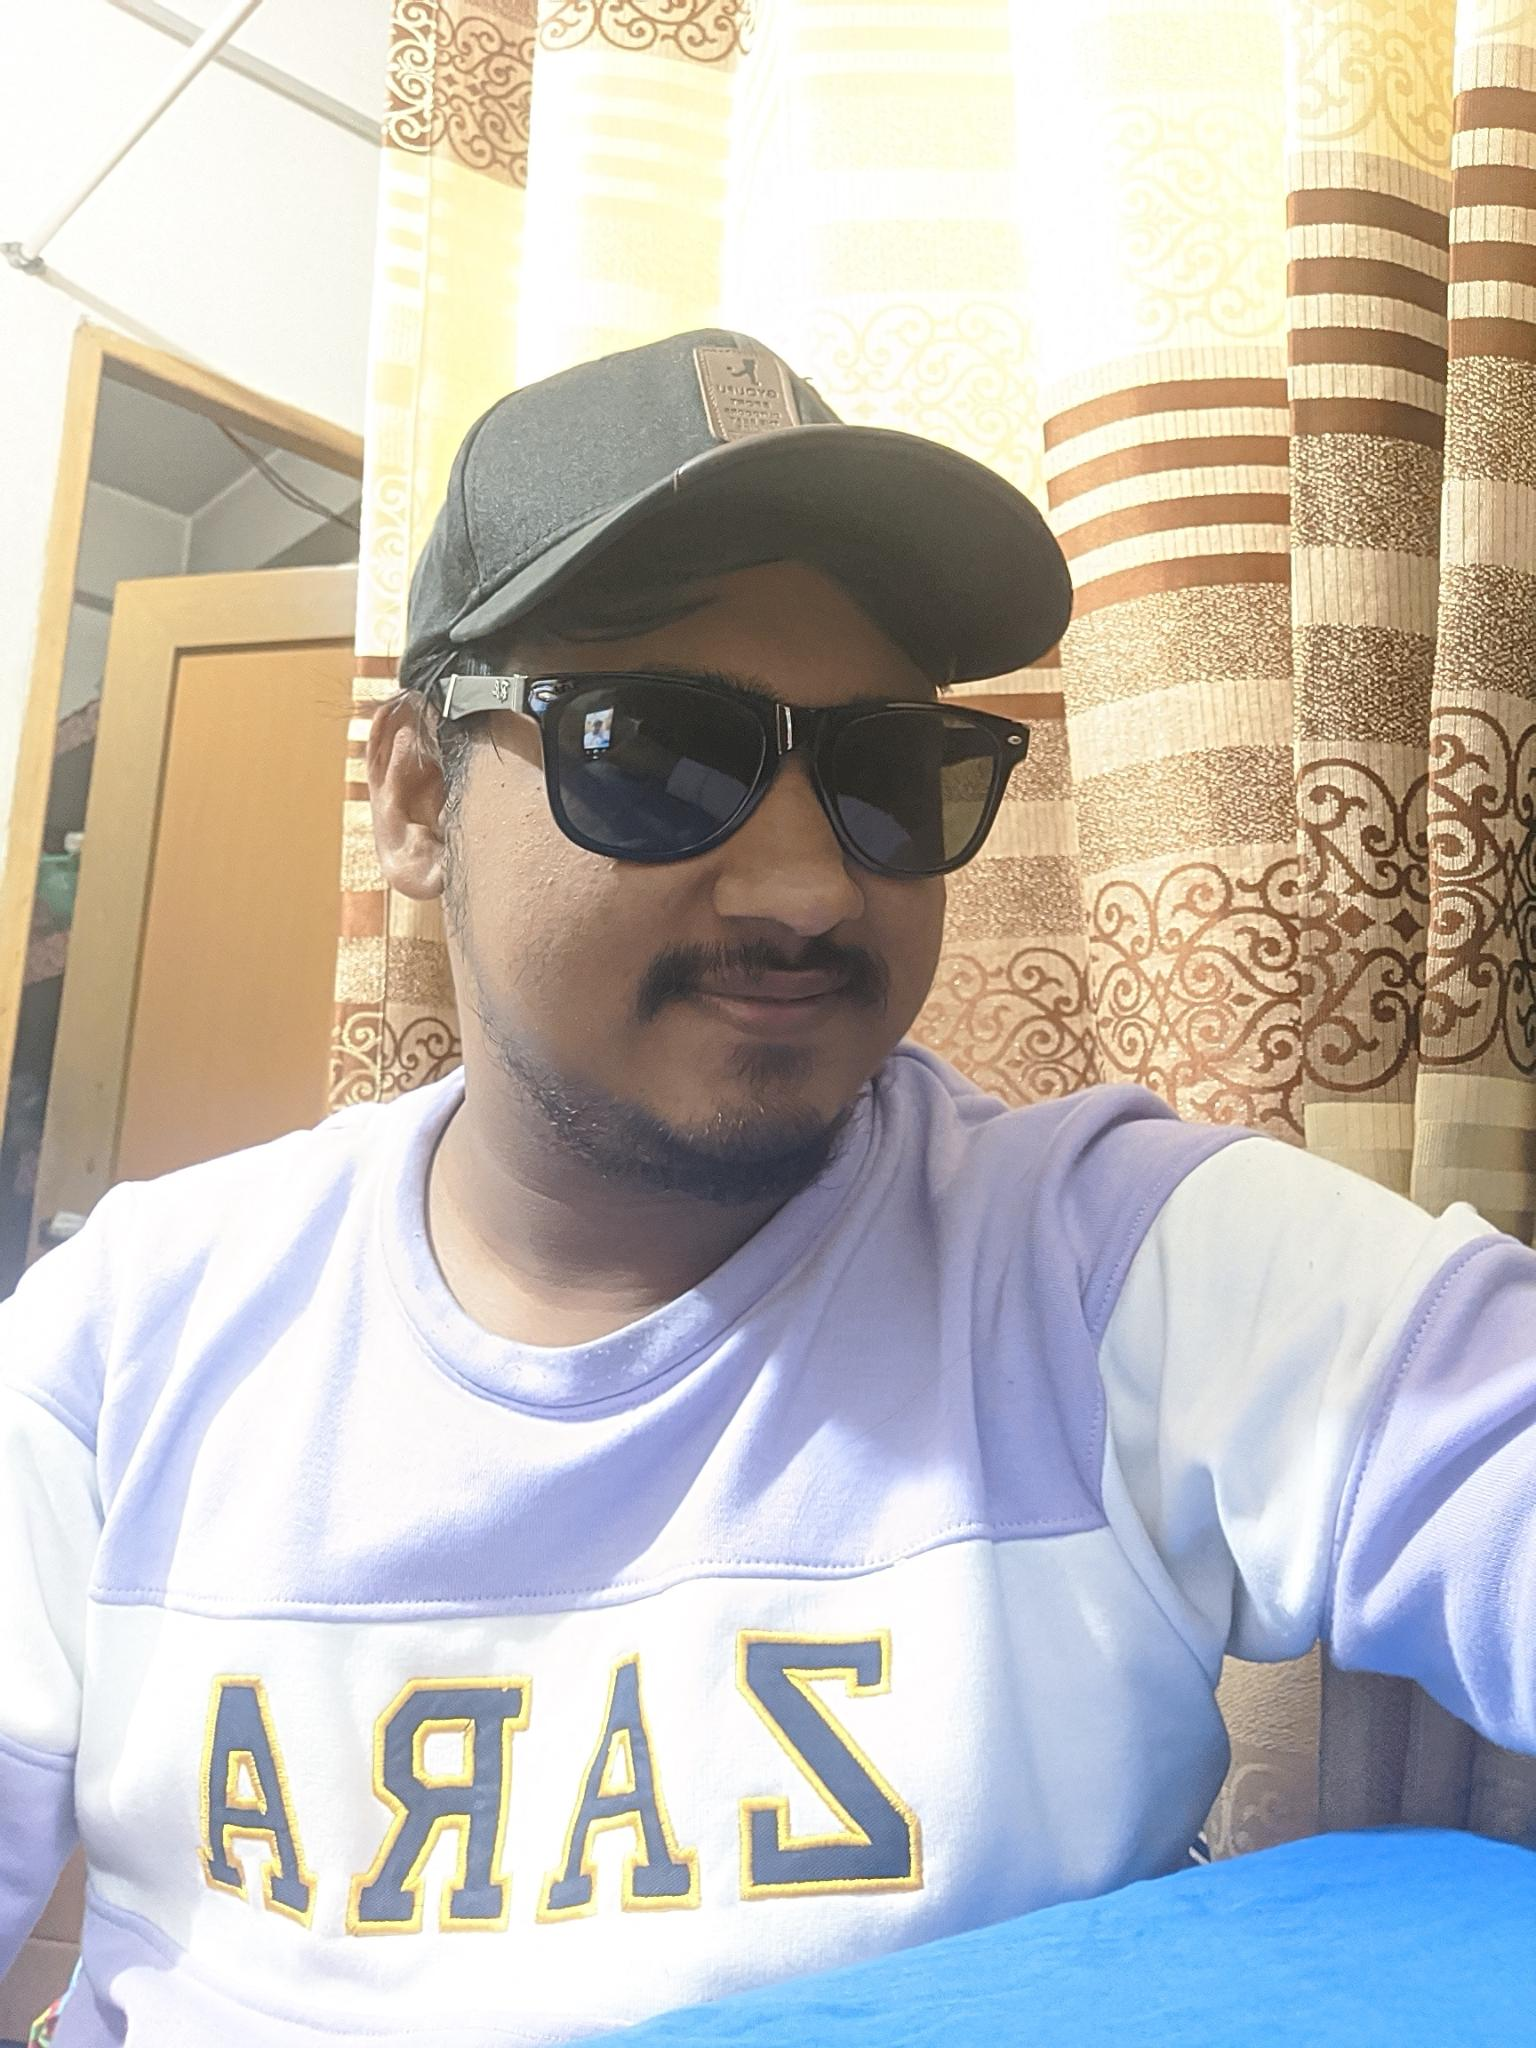Happy: (494, 647, 992, 1163)
